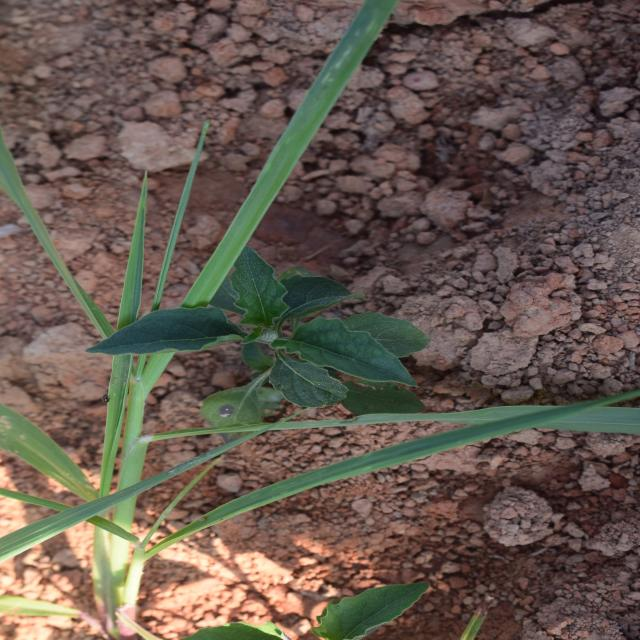Black_nightshade: (216, 89, 396, 422)
